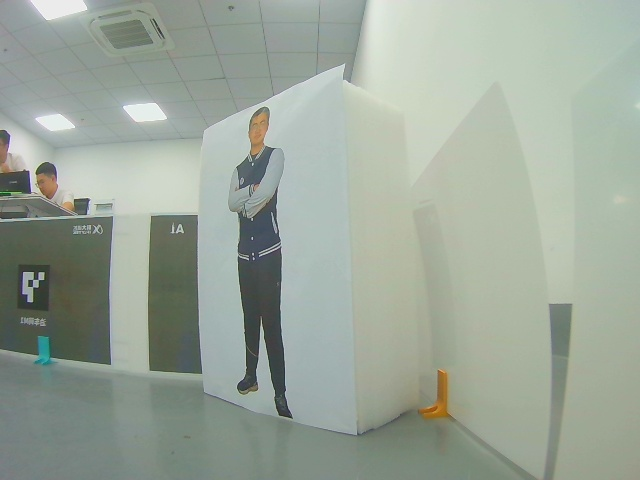person0: (217, 98, 311, 419)
